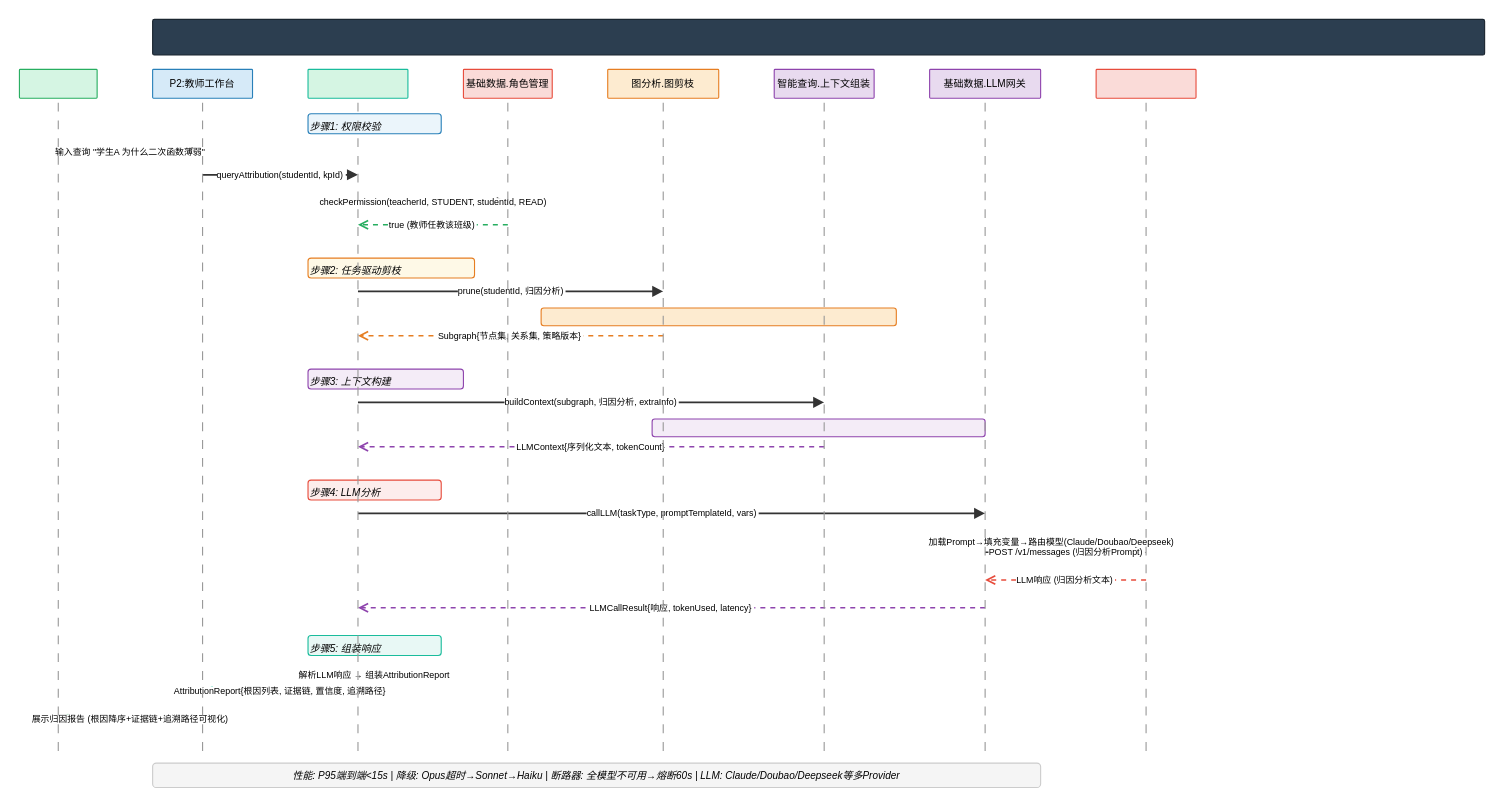
Image size: 1504x807. Some labels were removed from this diagram. The centre of each missing label's shape, as x and y in pixels:
BFS(3跳)→Top-K截断→权重过滤(>0.3)→关系类型过滤: (x=718, y=316)
Claude|Doubao|Deepseek: (x=1145, y=83)
S4 · 单学生薄弱点归因查询 (UC-10 · Story 2.1) ★核心价值交付: (x=818, y=36)
子图序列化→Token预算(≤8000)→融合历史+教辅: (x=818, y=427)
教师(A2): (x=57, y=83)
智能查询.智能对话: (x=357, y=83)
